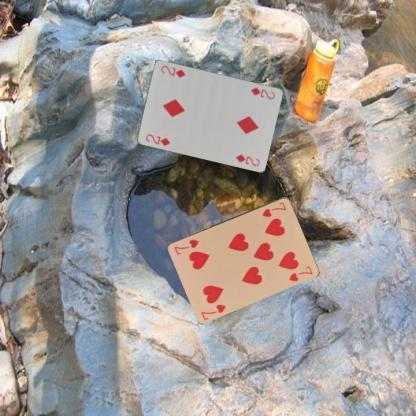2d: (143, 131, 172, 147), (249, 84, 276, 100)
7h: (198, 301, 228, 321), (260, 200, 287, 218)
